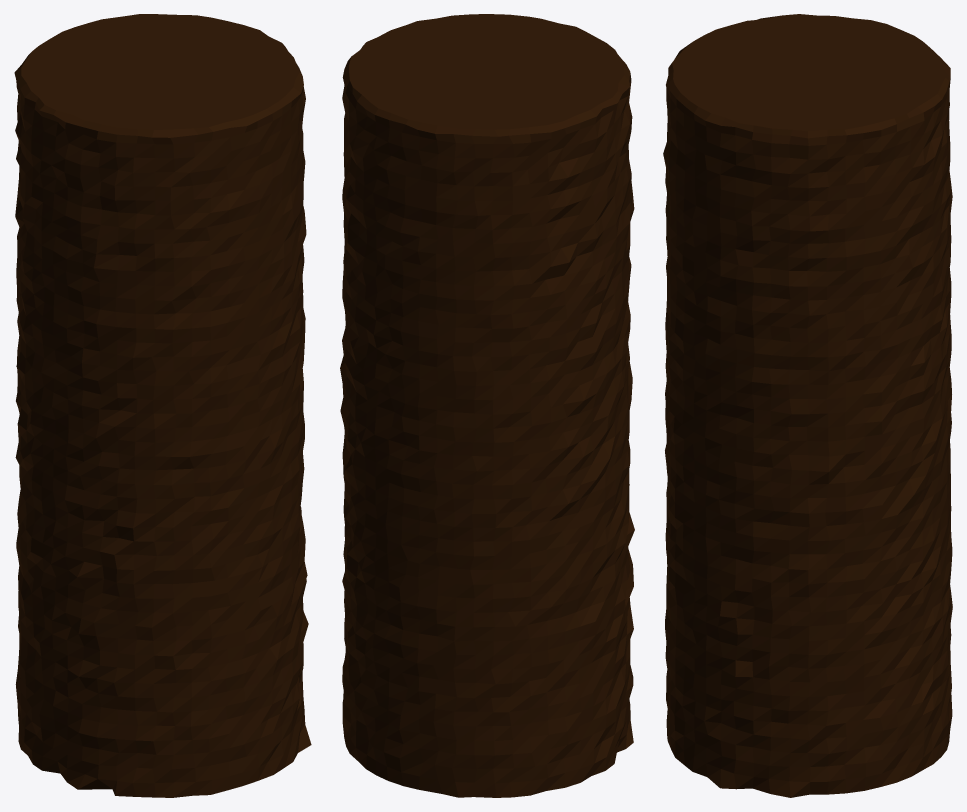
Rendered from Plateau.FBX.
3 renders of one model, left to right at view 1: azimuth 30°, elevation 25°; view 2: azimuth 150°, elevation 25°; view 3: azimuth 270°, elevation 25°, orthographic.
Parts seen in each view (by area): view 1: Cylinder001; view 2: Cylinder001; view 3: Cylinder001.
Part boxes in pixels (x1=…): Cylinder001: x1=14, y1=14, x2=311, y2=797; Cylinder001: x1=340, y1=14, x2=634, y2=797; Cylinder001: x1=663, y1=14, x2=952, y2=797.
Size of the model in its own units: 1712 by 1698 by 4295.
